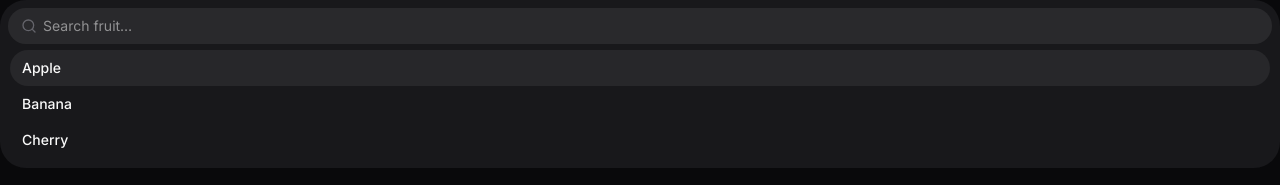
it: Command — filtering › filters items as the user types
Type "ban" into the dropdown with placeholder "Search fruit…" at (654, 26), box 37,16 -> 1271,36
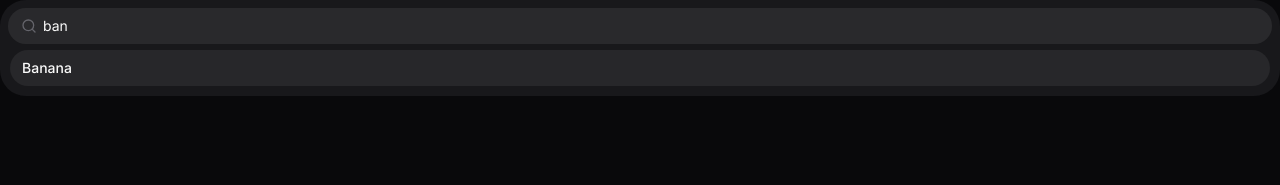
Expected: the option "Banana" is shown, 10,50 -> 1270,86
Expected: the option "Apple" is gone
Expected: the option "Cherry" is gone
